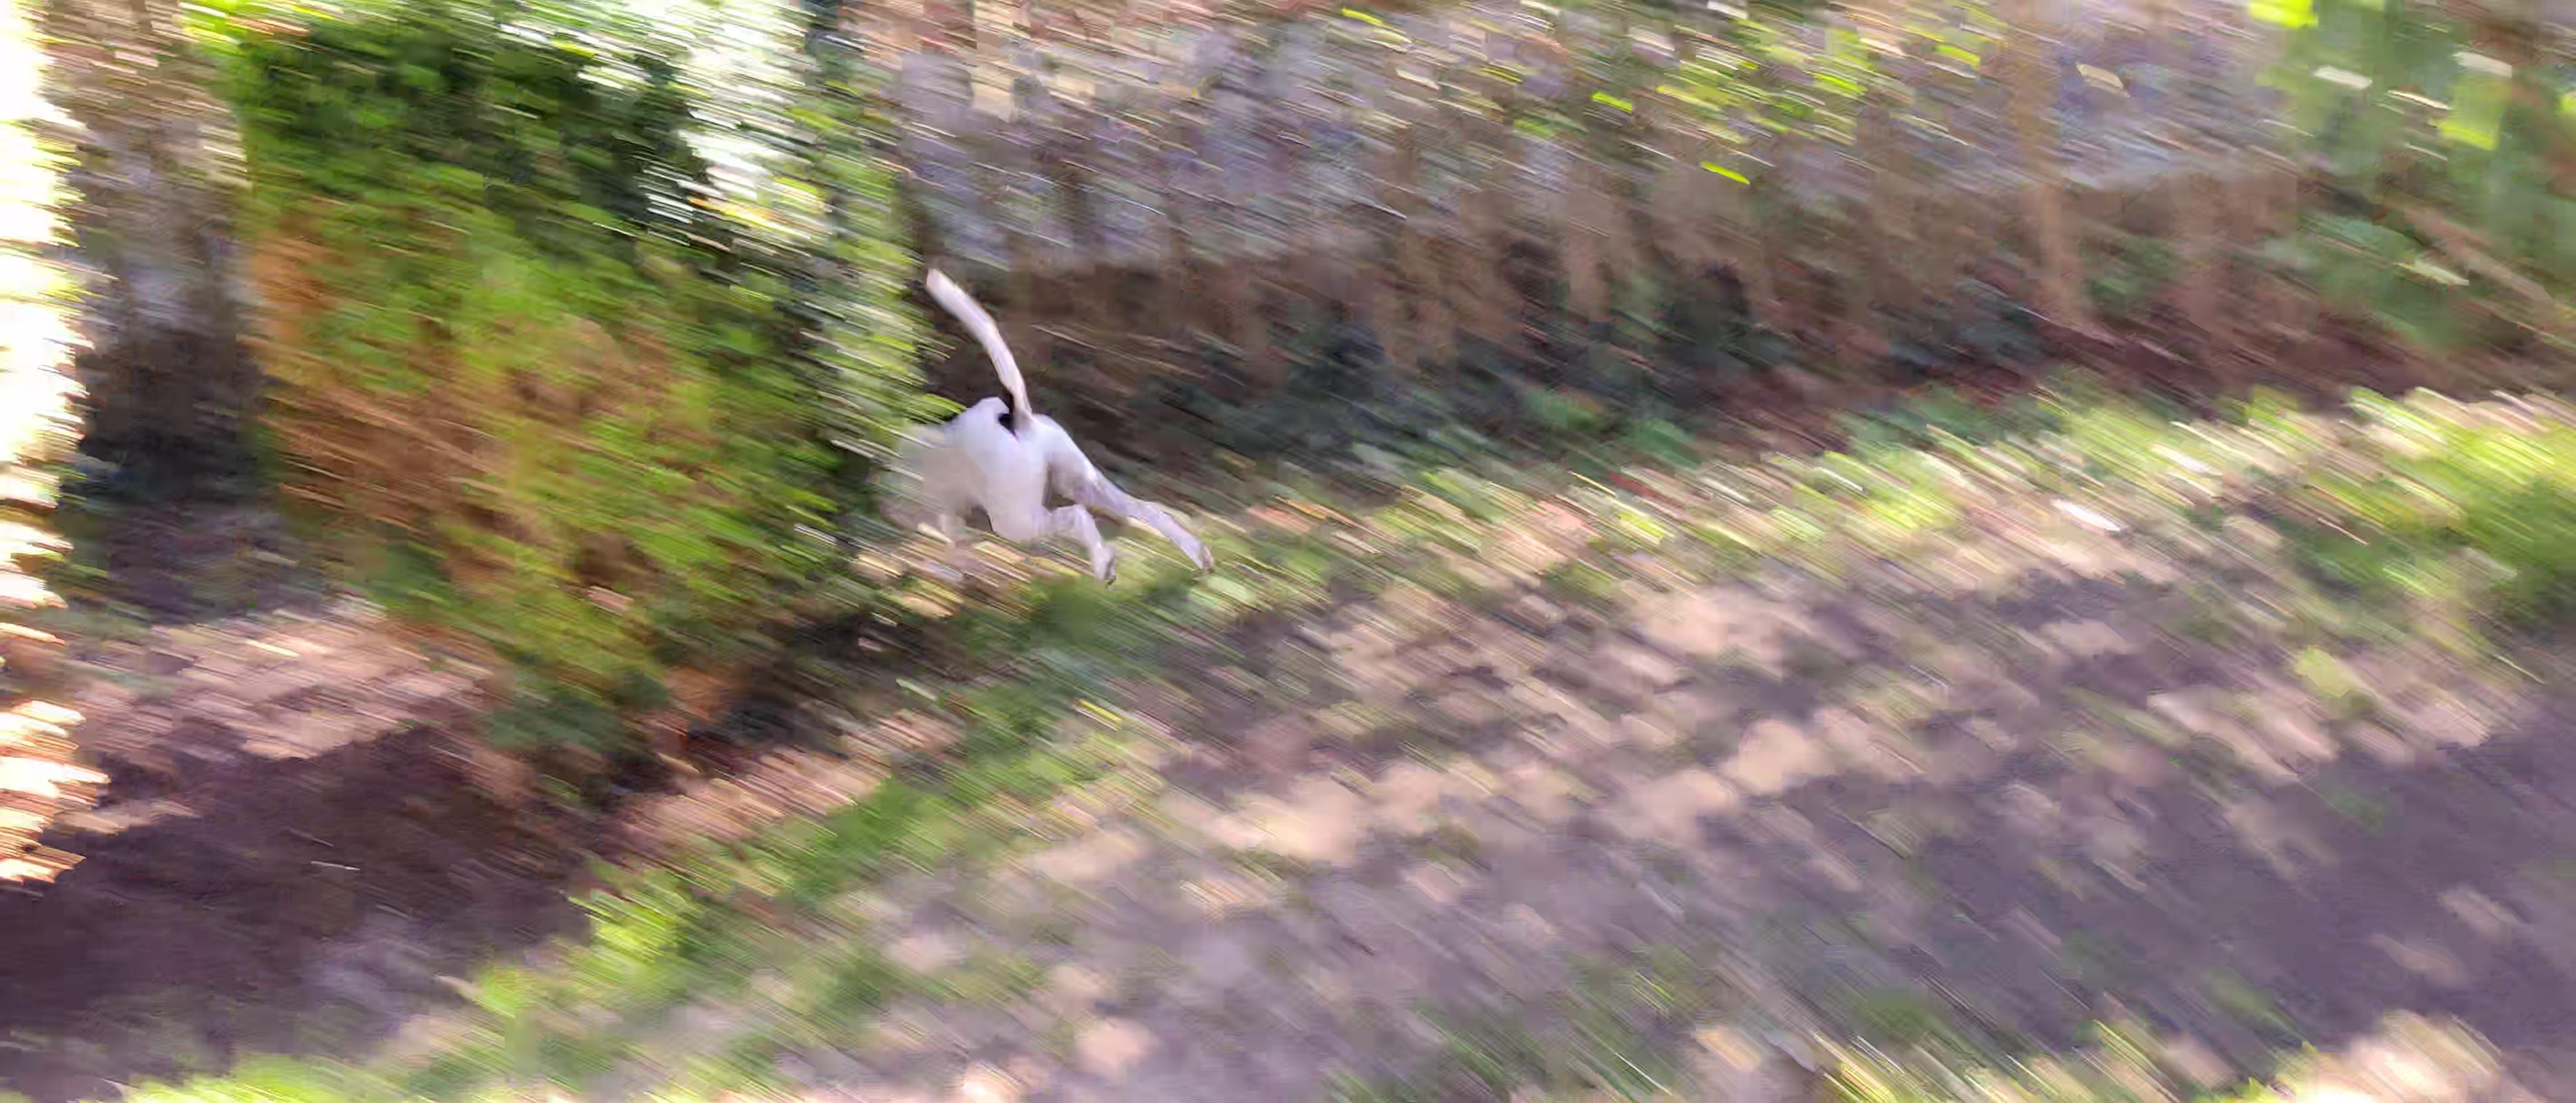Dog: (877, 253, 1227, 611)
